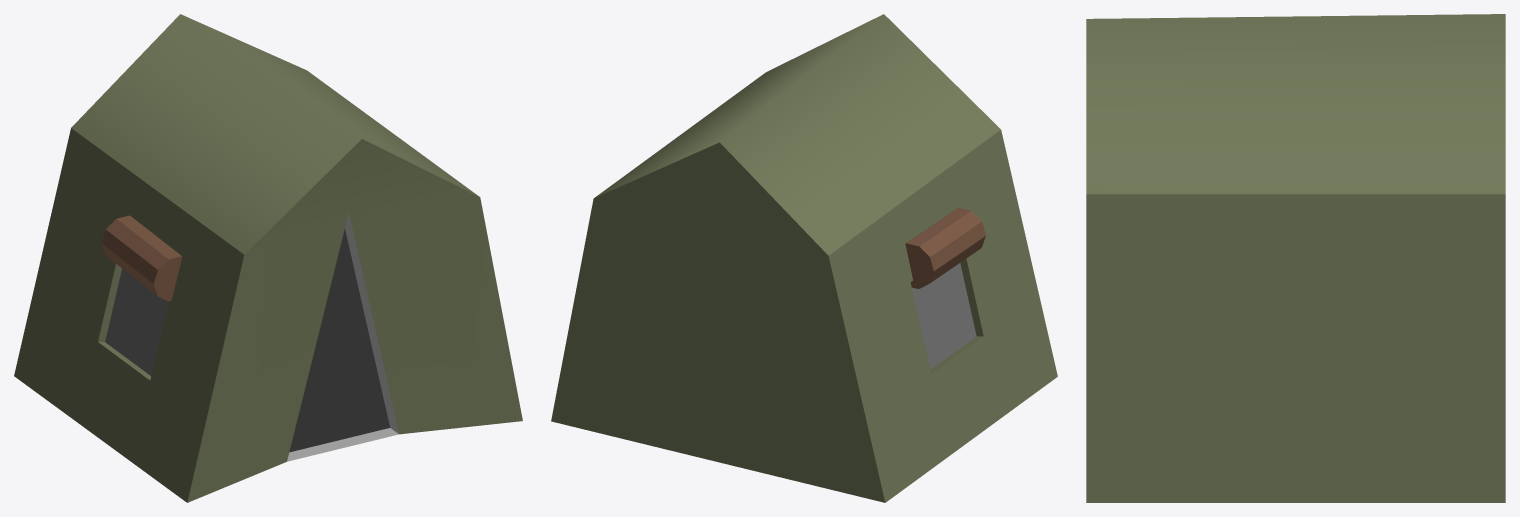
3 renders of one model, left to right at view 1: azimuth 30°, elevation 25°; view 2: azimuth 150°, elevation 25°; view 3: azimuth 270°, elevation 25°, orthographic. The views are drawn at different scales.
Visible parts, largest first — view 1: pCube1, pCylinder1; view 2: pCube1, pCylinder1; view 3: pCube1.
Part boxes in pixels (x1=…): pCube1: x1=14, y1=14, x2=522, y2=502; pCylinder1: x1=101, y1=215, x2=182, y2=301; pCube1: x1=551, y1=14, x2=1057, y2=502; pCylinder1: x1=905, y1=207, x2=985, y2=288; pCube1: x1=1086, y1=14, x2=1505, y2=502.
Size of the model in its own units: 3.16 by 2.89 by 2.83.
